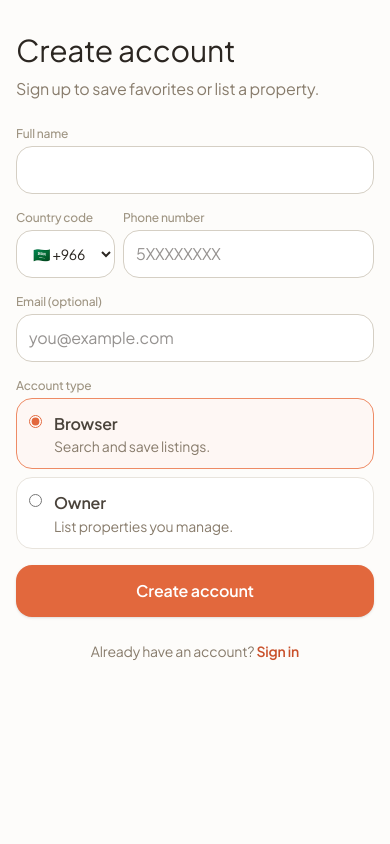
Test: RegisterPage — edge cases (T-053) › shows error when phone contains only non-digit characters
The image size is (390, 844).
Type "Amal" into the field labelled "Full name" at (195, 170), box [16,146,374,194]
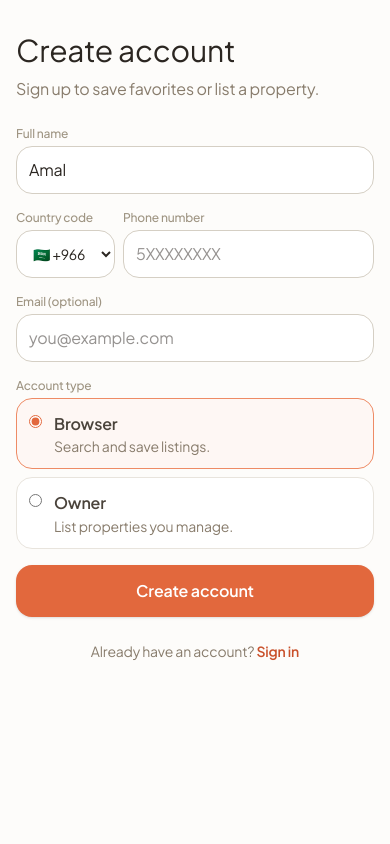
Type "abc" into the field labelled "Phone number" at (248, 254), box [123,230,374,278]
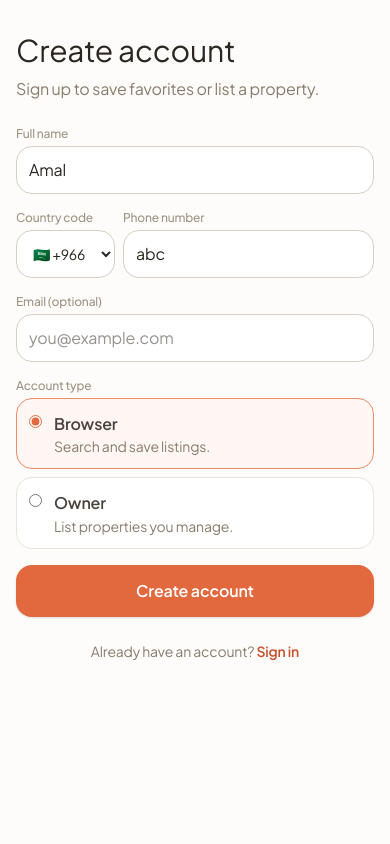
Click the button "Create account" at (195, 591), box [16,565,374,617]
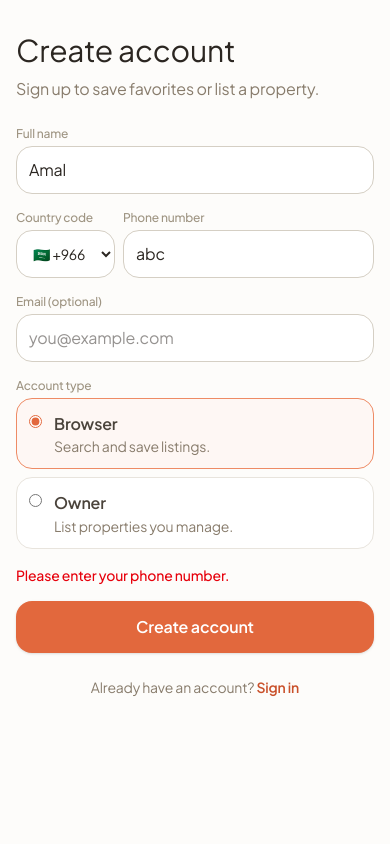
Result: the message shows "phone" at [16,566,229,584]
